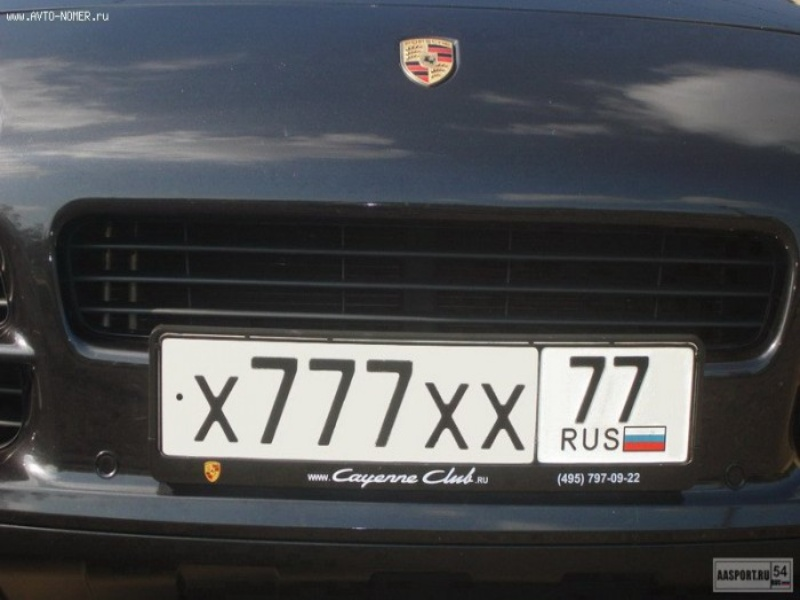plate: (151, 325, 700, 492)
